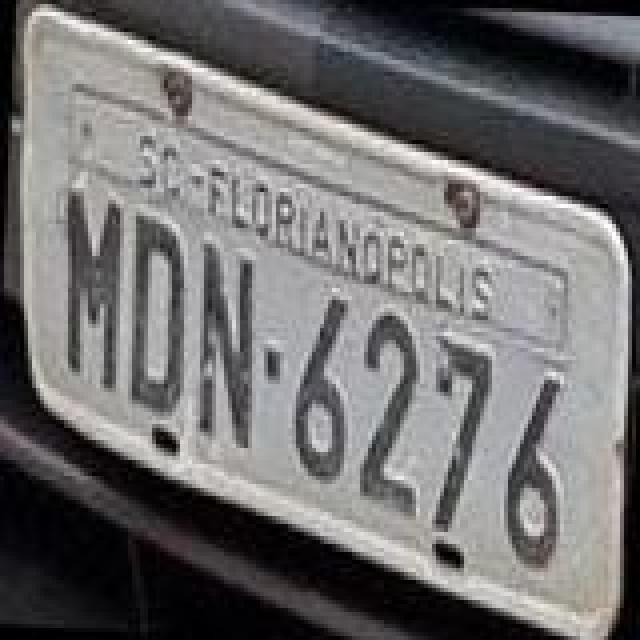2: (356, 308, 428, 524)
6: (500, 374, 572, 570), (286, 290, 354, 486)
7: (424, 330, 496, 534)
D: (126, 208, 194, 416)
M: (56, 184, 128, 392)
N: (188, 236, 260, 452)
